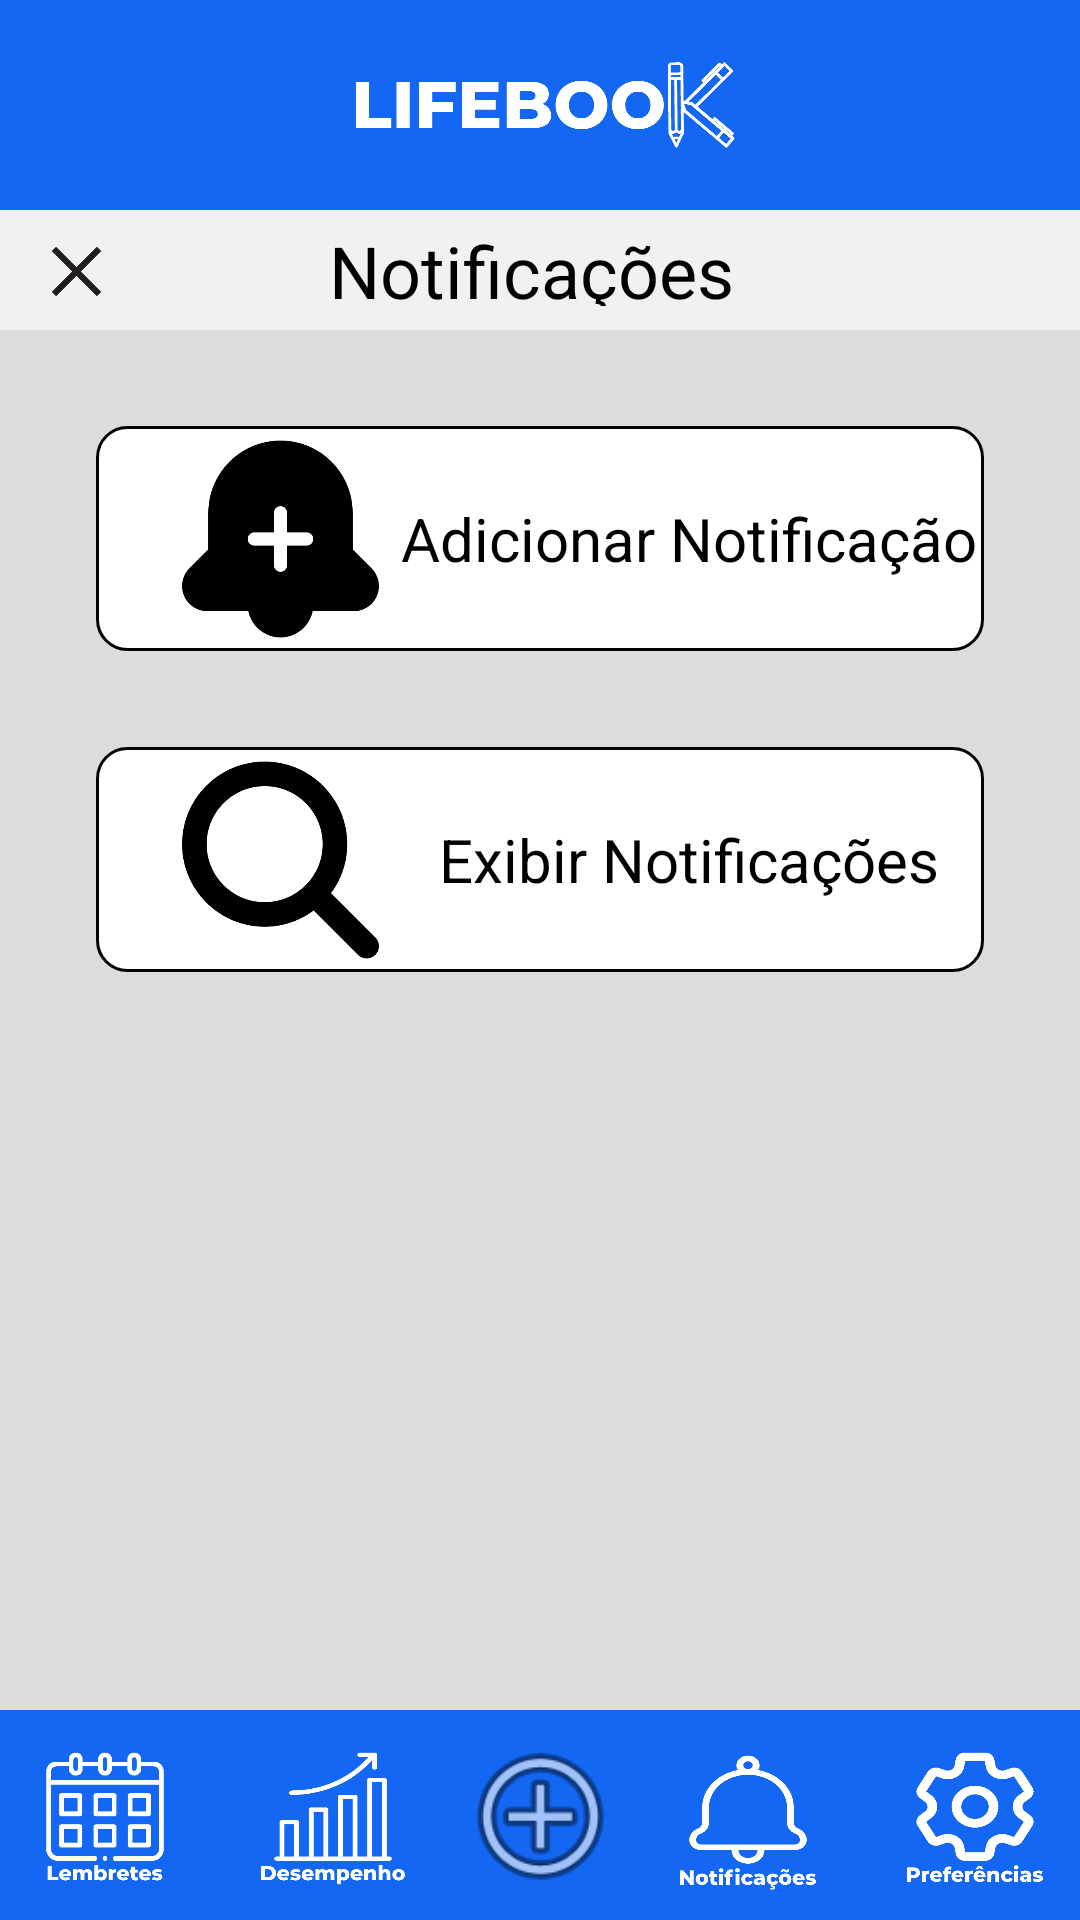

Screen size 1080 x 1920. Icon name, then its center in pixels as [x,y]:
add: [540,1816]
close: [76,271]
